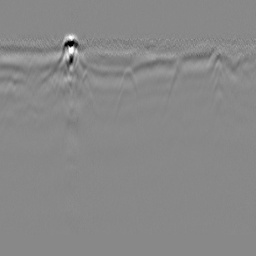cavity: (116, 63, 138, 97)
